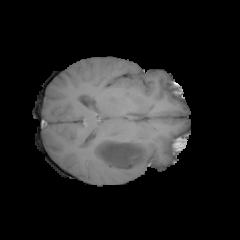glioma: (93, 72, 153, 170)
